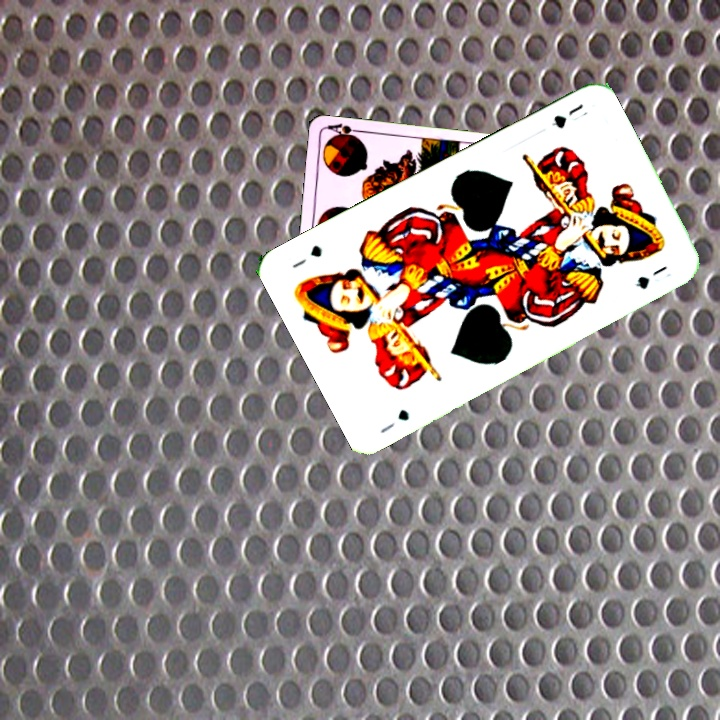GU: (547, 99, 591, 131), (376, 405, 412, 436)
